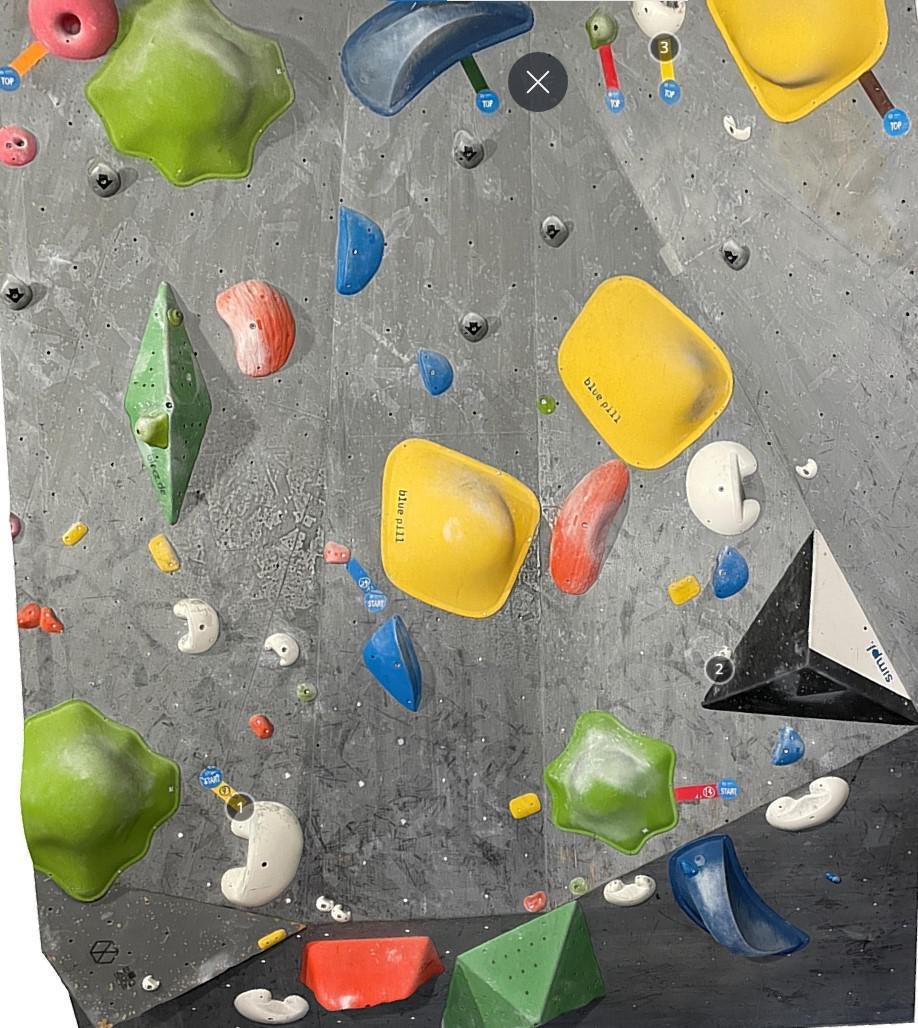hold: (702, 529, 918, 725), (85, 0, 295, 186), (557, 274, 734, 469), (21, 699, 181, 903), (380, 437, 541, 618), (707, 0, 889, 123), (342, 1, 533, 116), (124, 281, 212, 525), (440, 900, 606, 1028), (544, 709, 678, 855), (668, 834, 810, 959), (295, 936, 445, 1011), (550, 458, 629, 594), (221, 801, 303, 907), (216, 279, 295, 377), (686, 441, 761, 535), (362, 614, 422, 711), (28, 0, 120, 60), (765, 777, 850, 831), (336, 206, 384, 295), (234, 988, 309, 1025), (173, 598, 219, 654), (631, 1, 686, 39), (712, 544, 749, 598), (603, 875, 656, 906), (417, 351, 453, 395), (0, 125, 37, 166), (134, 409, 168, 449), (586, 9, 618, 49), (772, 726, 804, 765), (148, 534, 180, 572), (453, 130, 483, 169), (88, 161, 120, 197), (265, 633, 299, 666), (0, 278, 33, 310), (720, 237, 750, 270), (668, 575, 700, 605), (540, 215, 569, 247), (509, 792, 542, 819), (460, 311, 488, 342), (723, 115, 752, 140), (62, 522, 88, 546), (17, 603, 41, 628), (249, 714, 273, 739), (257, 929, 287, 949), (323, 541, 350, 563), (40, 607, 63, 632), (523, 890, 547, 912), (795, 458, 818, 479), (296, 682, 318, 701), (568, 876, 587, 895), (331, 904, 351, 922), (537, 395, 555, 414), (142, 974, 161, 991), (167, 307, 183, 326), (316, 896, 334, 912), (9, 512, 20, 538), (824, 872, 842, 884)
